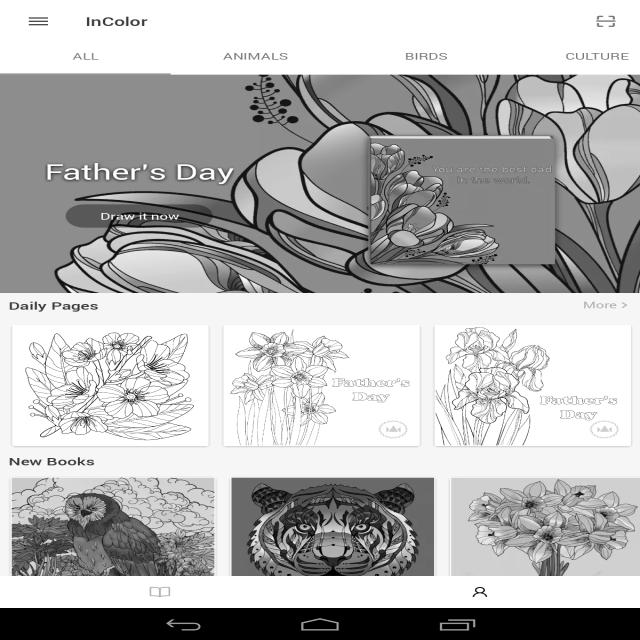Button: (66, 204, 212, 228)
ImageButton: (9, 0, 68, 43)
ImageView: (0, 75, 640, 293), (12, 478, 214, 604), (232, 478, 434, 604), (451, 478, 640, 604), (14, 326, 208, 446), (224, 326, 418, 446), (436, 326, 630, 446), (378, 420, 408, 439), (590, 420, 620, 439), (147, 584, 173, 600), (467, 584, 493, 600), (622, 302, 628, 308)
TextView: (45, 157, 234, 186), (85, 0, 148, 43), (8, 454, 104, 472), (580, 5, 632, 38), (8, 298, 98, 313), (223, 50, 288, 62), (565, 50, 629, 62), (405, 50, 448, 62), (583, 298, 617, 312), (72, 50, 99, 62)
